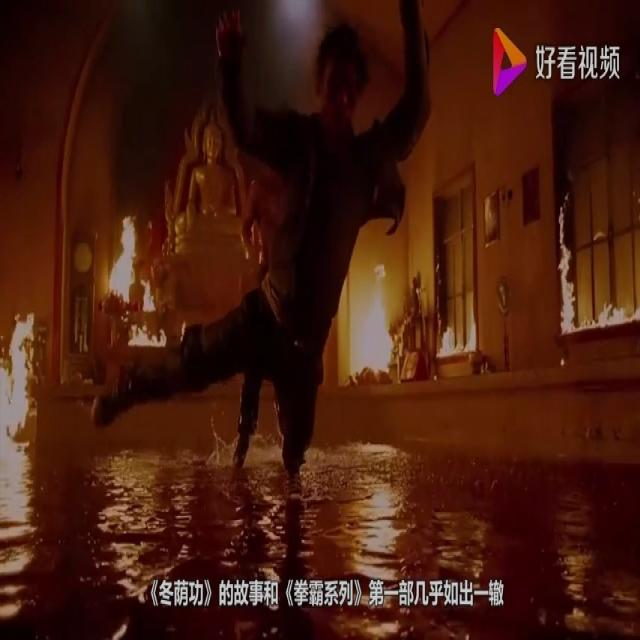fight: (89, 0, 433, 505)
